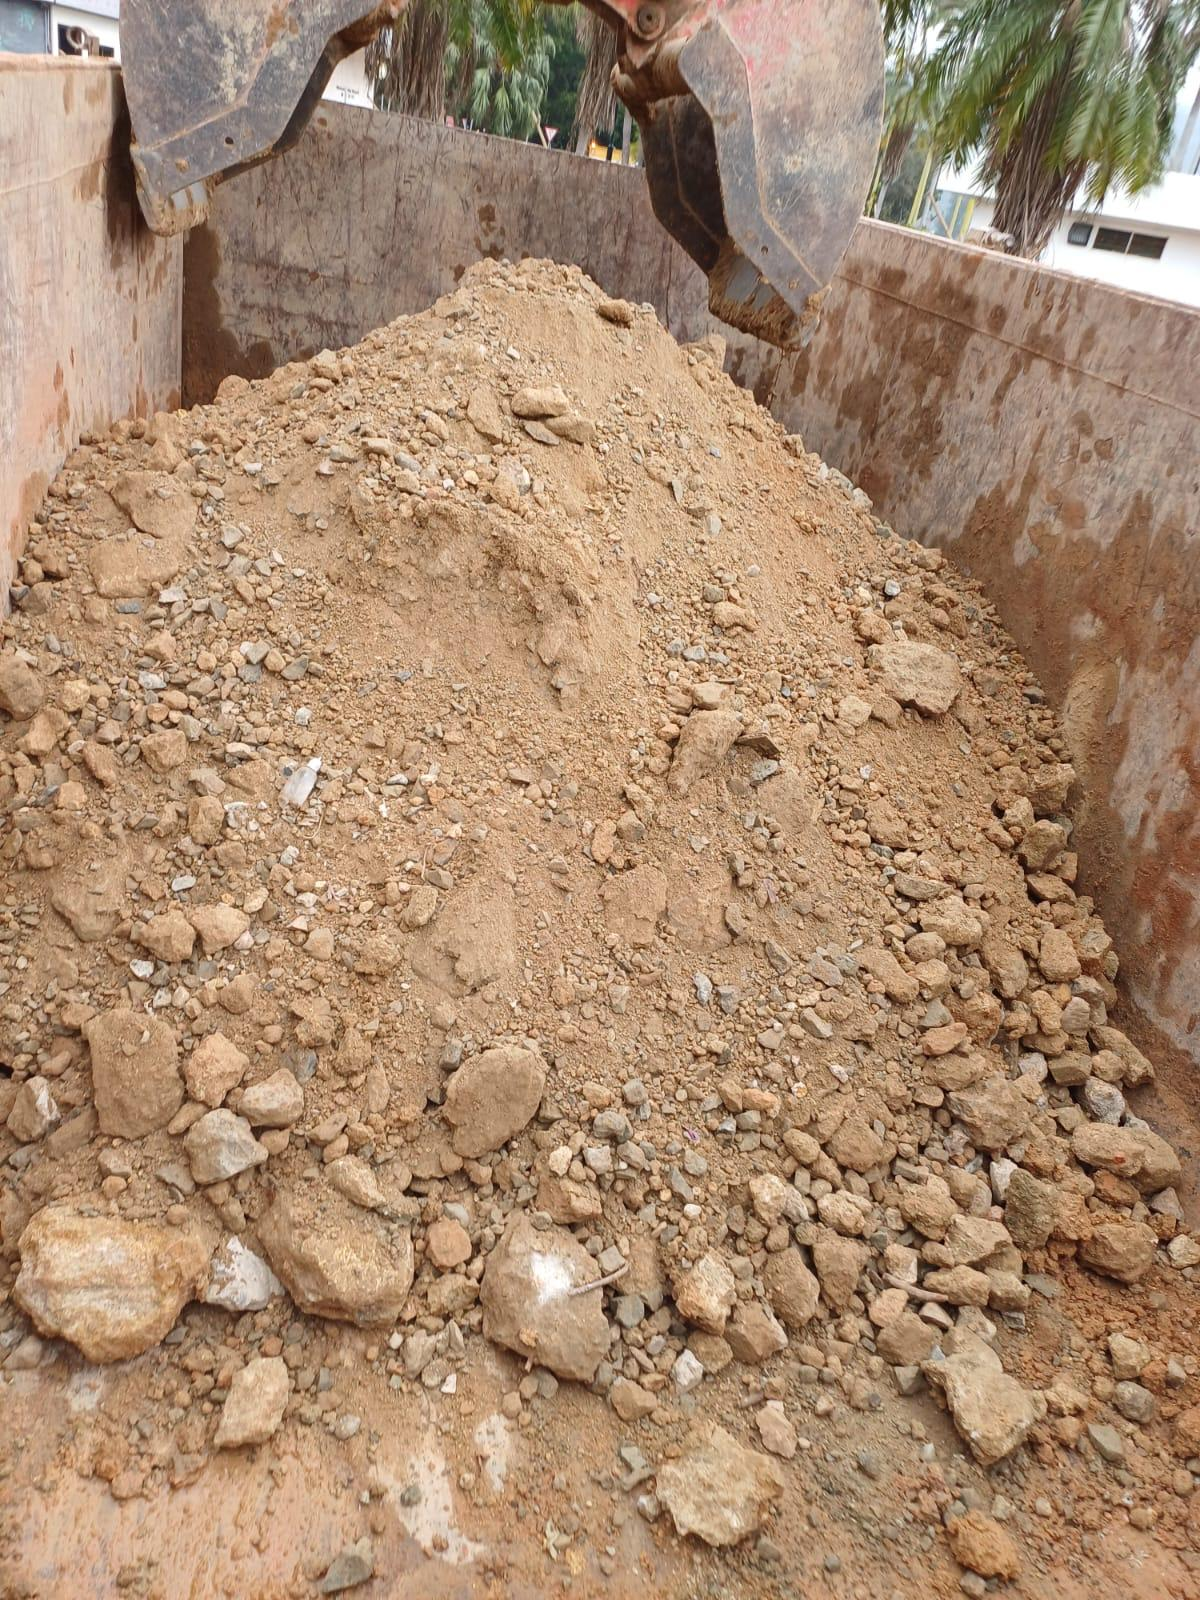dry: (3, 257, 1180, 1374)
